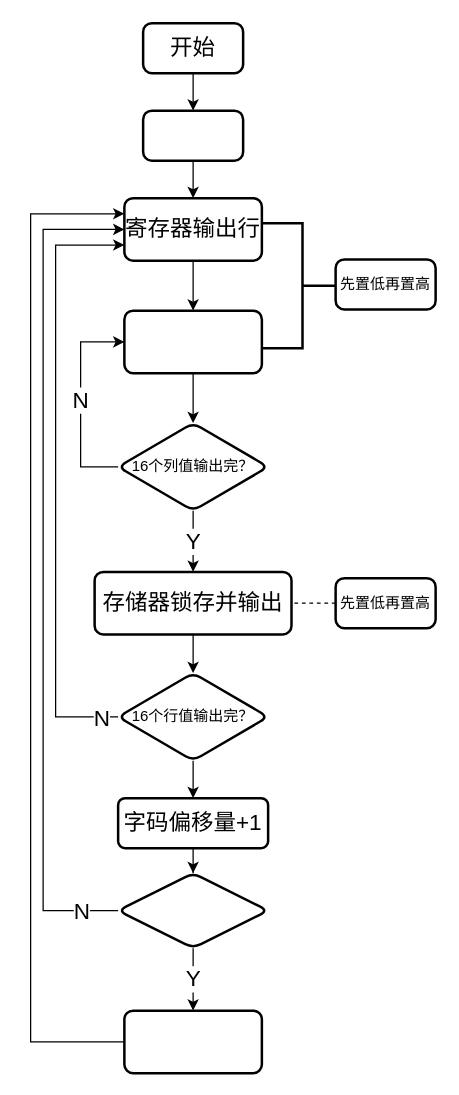
Image size: 459x1095. Some labels were removed from this diagram. The box of each missing label's shape, as (x1, y1, x2, y2) in pixels:
偏移量置零: (122, 1009, 262, 1074)
初始化: (141, 109, 244, 161)
寄存器输出列: (122, 309, 262, 374)
所有字输出完？: (116, 871, 269, 949)
